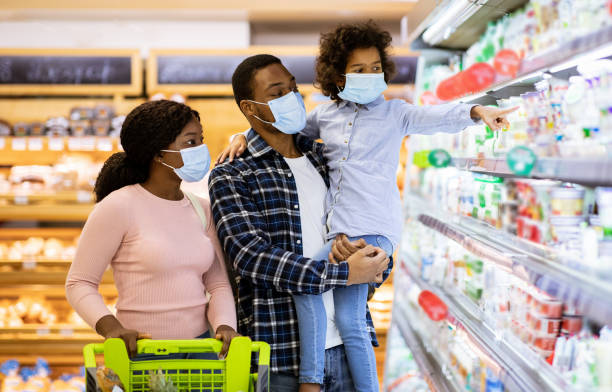with mask: (118, 103, 217, 181), (232, 54, 311, 138), (332, 35, 387, 108)
